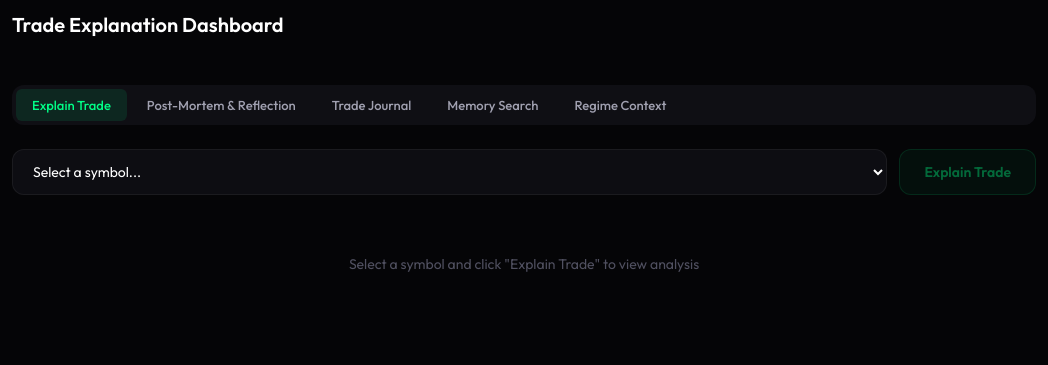
Scenario: TradeIntelligence - Scenario 4: Error & Edge Cases › Shows error banner on API failure
Select "RELIANCE" in the dropdown at [450, 172], box x1=12 y1=149 x2=887 y2=195
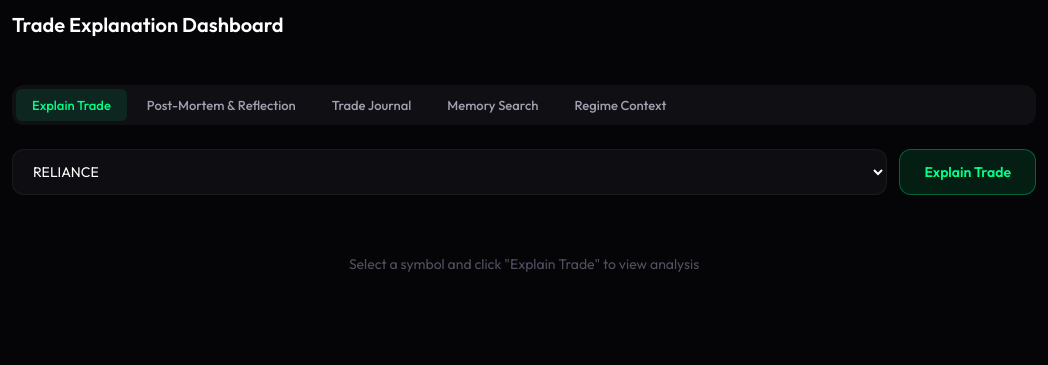
Click the 2nd button "Explain Trade" at [968, 172], box x1=899 y1=149 x2=1036 y2=195
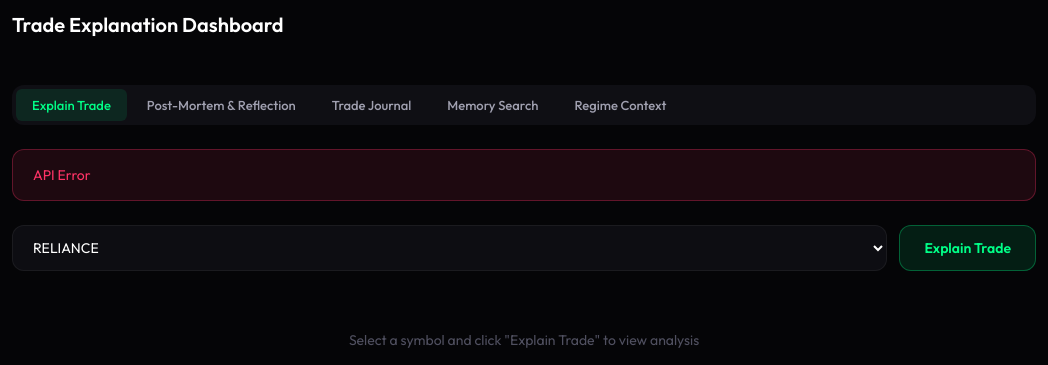
Result: the text "API Error" is shown at x1=12 y1=149 x2=1036 y2=201
